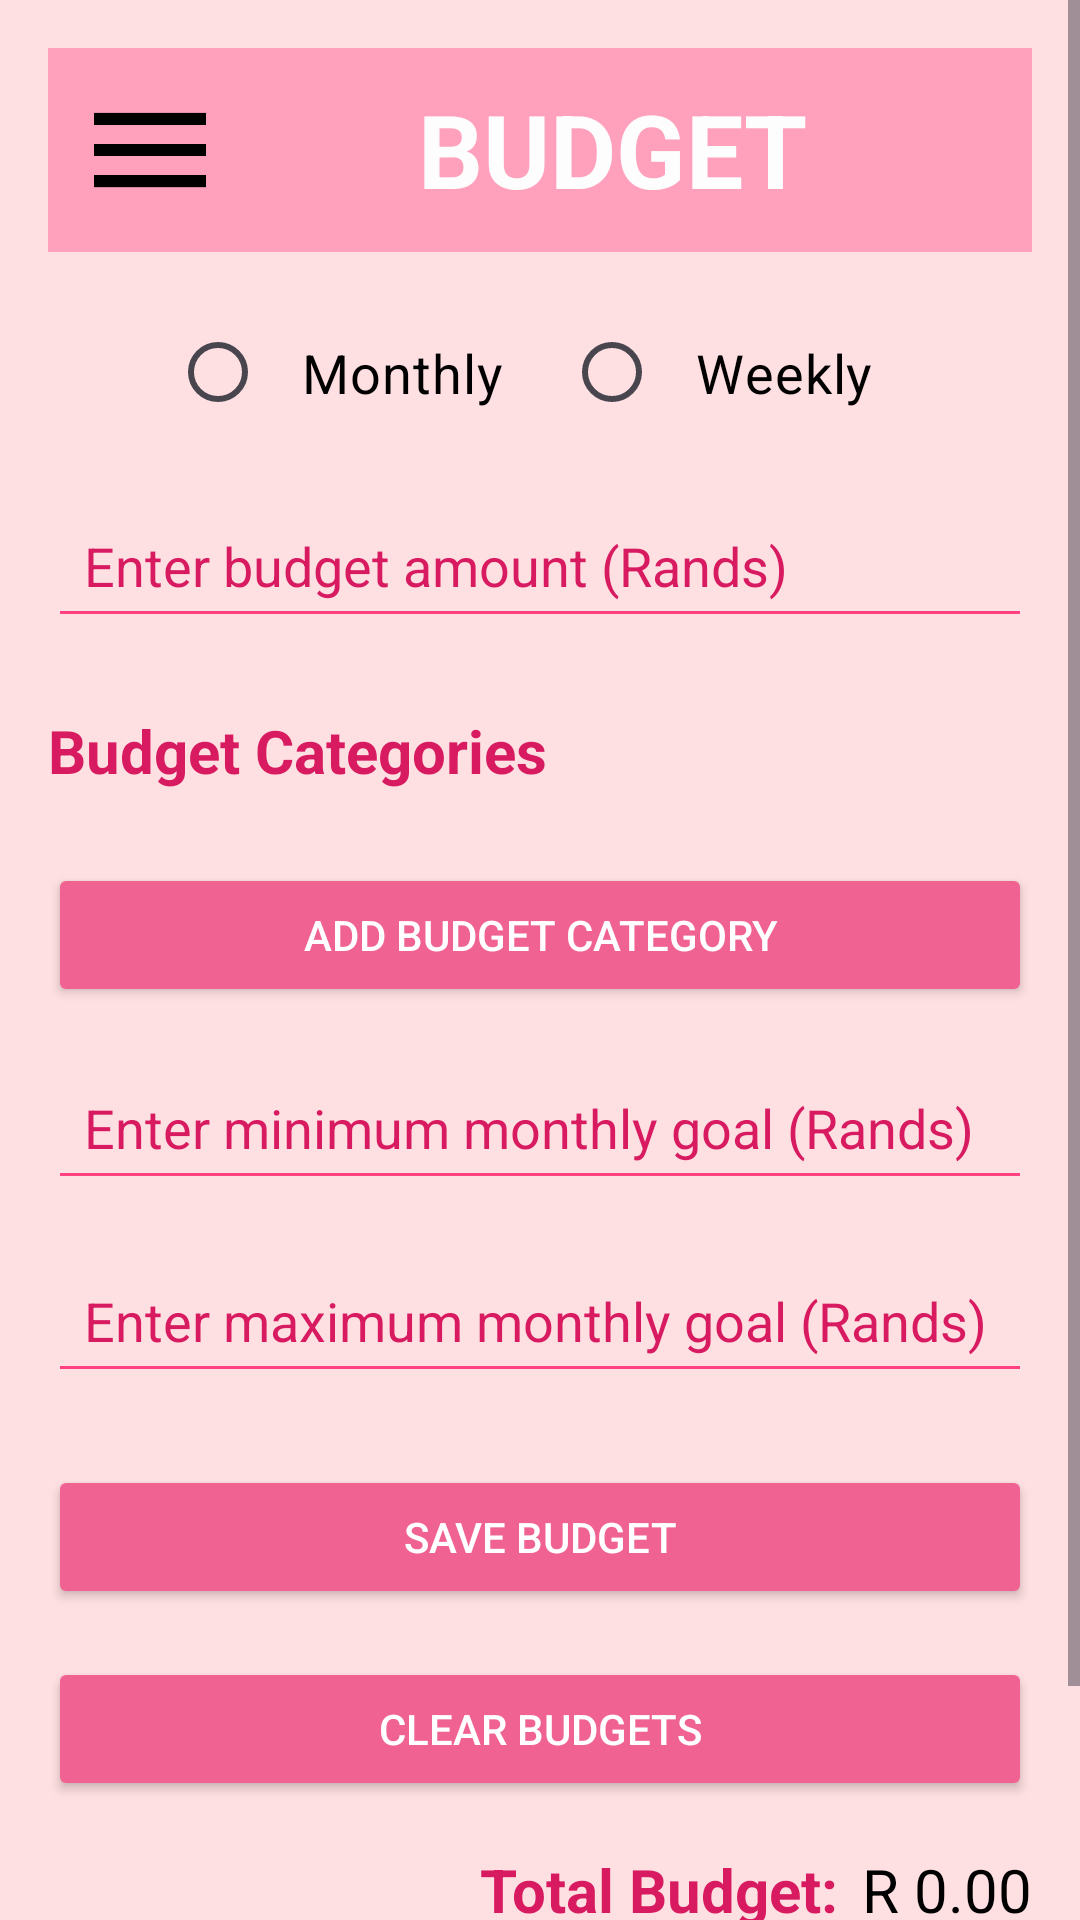

Where to tap for icons on this 1080px×1920px app screen, as (x=x, y=y):
Menu: (x=150, y=150)
